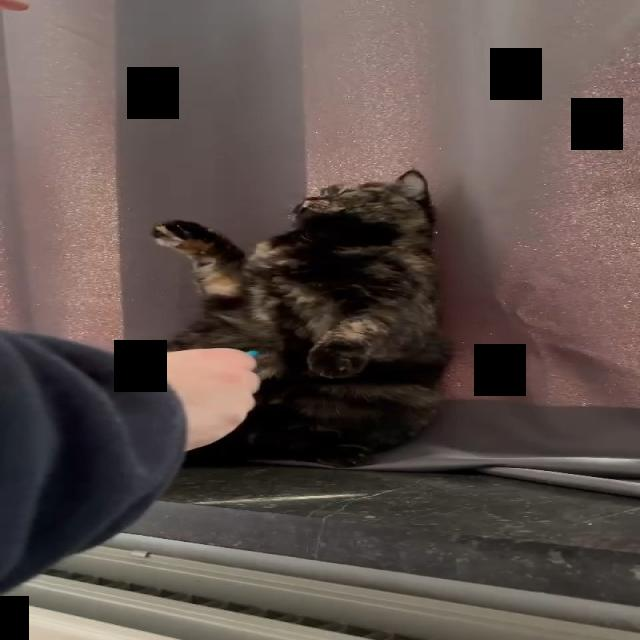authorized: (136, 168, 453, 468)
